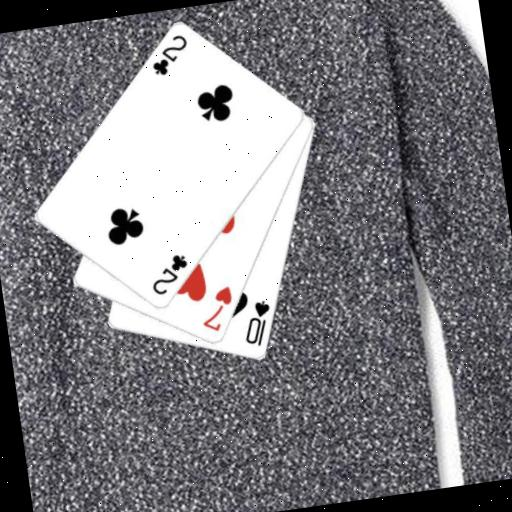10S: (238, 297, 278, 351)
2C: (145, 250, 194, 298), (145, 31, 193, 80)
7H: (195, 283, 239, 336)
